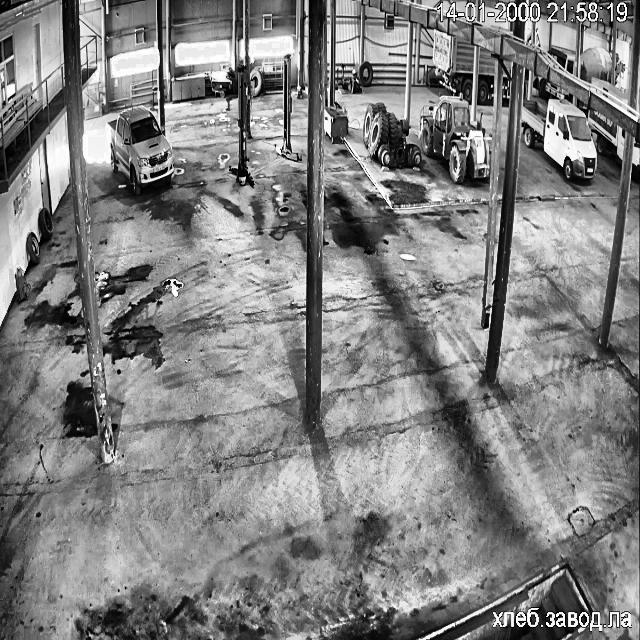class6: (420, 96, 489, 182), (362, 102, 420, 166)
class7: (521, 99, 596, 180), (108, 106, 173, 195), (432, 28, 474, 100), (588, 108, 624, 160), (580, 46, 620, 83), (477, 48, 494, 102), (592, 80, 628, 102), (537, 77, 571, 99), (548, 45, 574, 73), (632, 140, 640, 179), (498, 74, 509, 99), (505, 61, 510, 71)
tractor: (15, 268, 30, 300)
truck: (229, 66, 253, 186), (275, 53, 300, 161)
